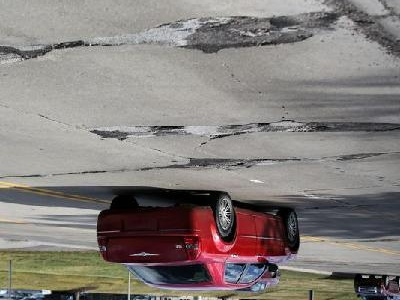pothole: (173, 10, 336, 56), (252, 119, 400, 134), (183, 157, 279, 173), (0, 44, 52, 62), (146, 123, 183, 134)
